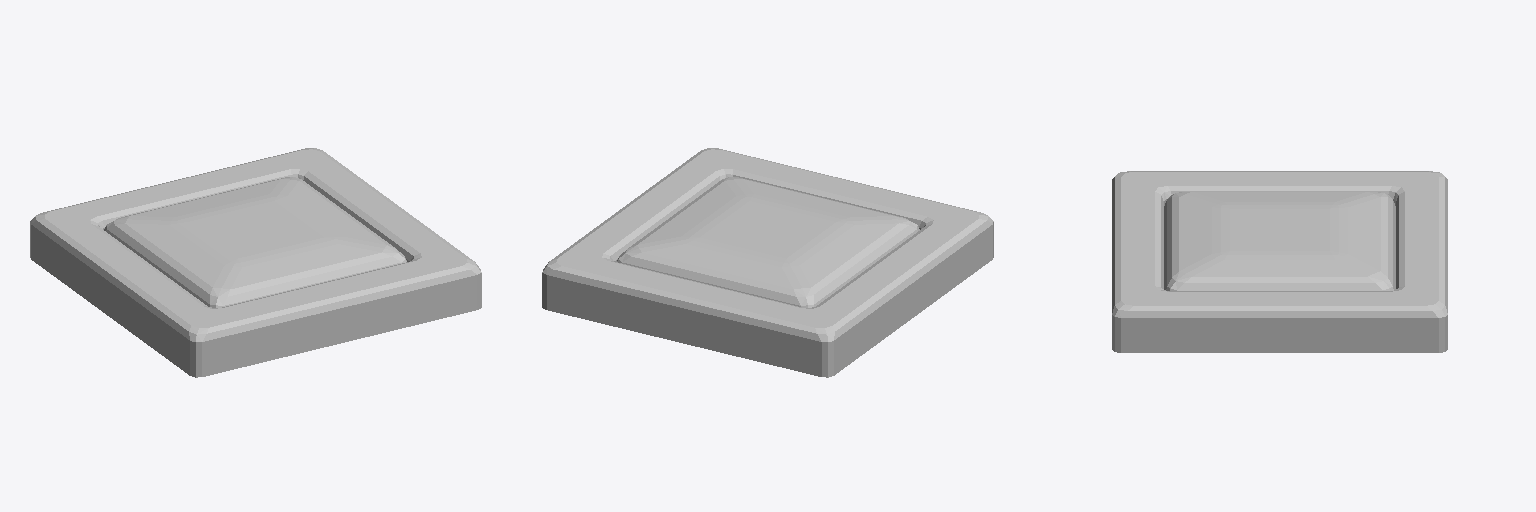
The model's file is switch.obj.
3 views of the same model, side by side, from view 1: azimuth 30°, elevation 25°; view 2: azimuth 150°, elevation 25°; view 3: azimuth 270°, elevation 25° (orthographic).
Visible parts, largest first — view 1: Cube; view 2: Cube; view 3: Cube.
Boxes of the visible parts, <box> form: Cube: <box>30,148,481,377</box>; Cube: <box>542,148,993,377</box>; Cube: <box>1112,171,1447,352</box>.
Size of the model in its own units: 1.83 by 0.3157 by 1.83.